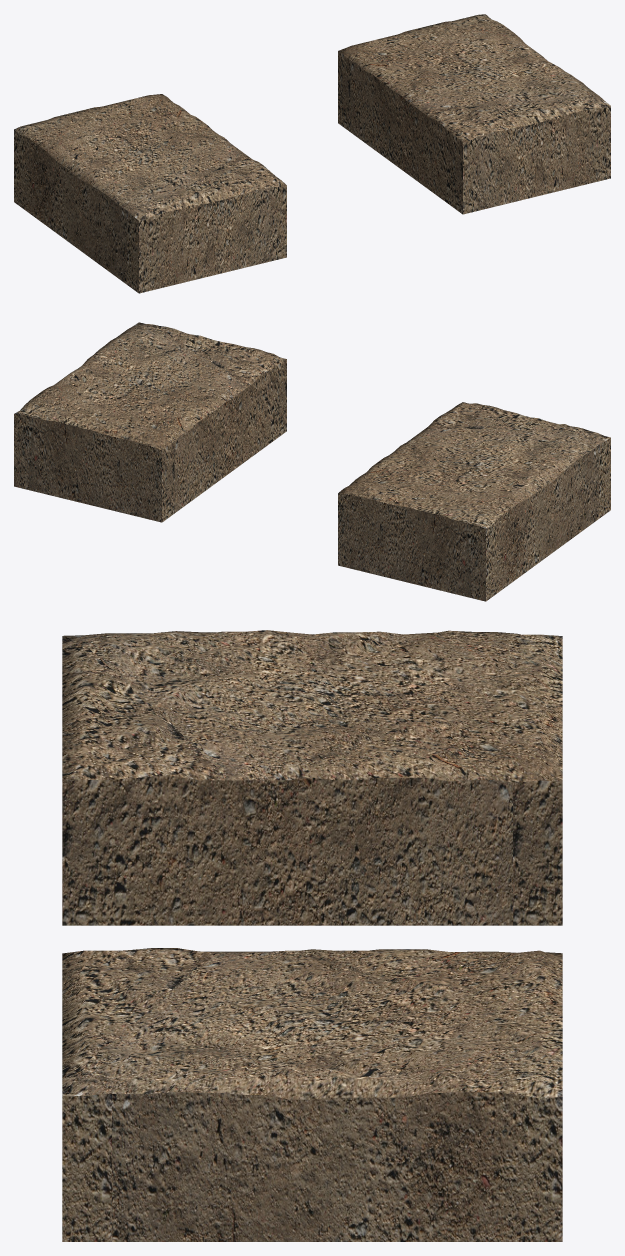
The model's file is bank.glb.
3 renders of one model, top to bottom at view 1: azimuth 30°, elevation 25°; view 2: azimuth 150°, elevation 25°; view 3: azimuth 270°, elevation 25°, orthographic. The views are drawn at different scales.
Visible parts, largest first — view 1: Plane; view 2: Plane; view 3: Plane.
Part boxes in pixels (x1,y1,x2,y2): Plane: (14, 14, 610, 293); Plane: (14, 322, 610, 601); Plane: (62, 630, 562, 1241).
Bounding box in the file's own units: 27.44 × 4.48 × 12.59.
Materials: 1 (1 with a texture image).
